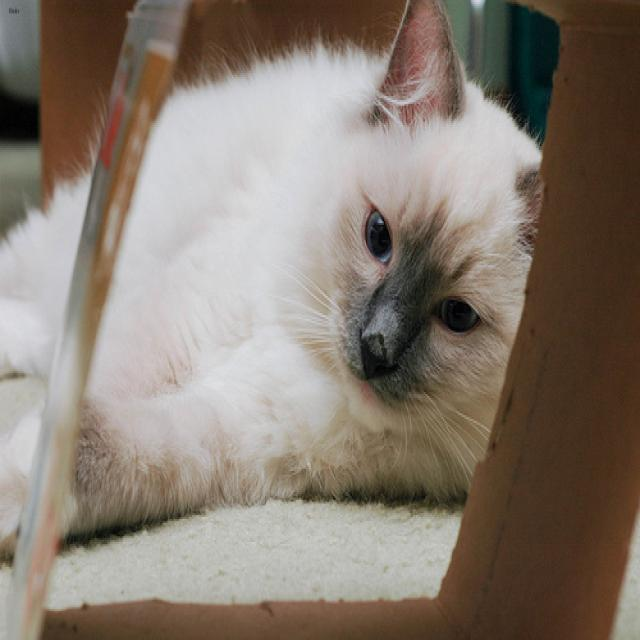Ragdoll: (326, 0, 543, 427)
